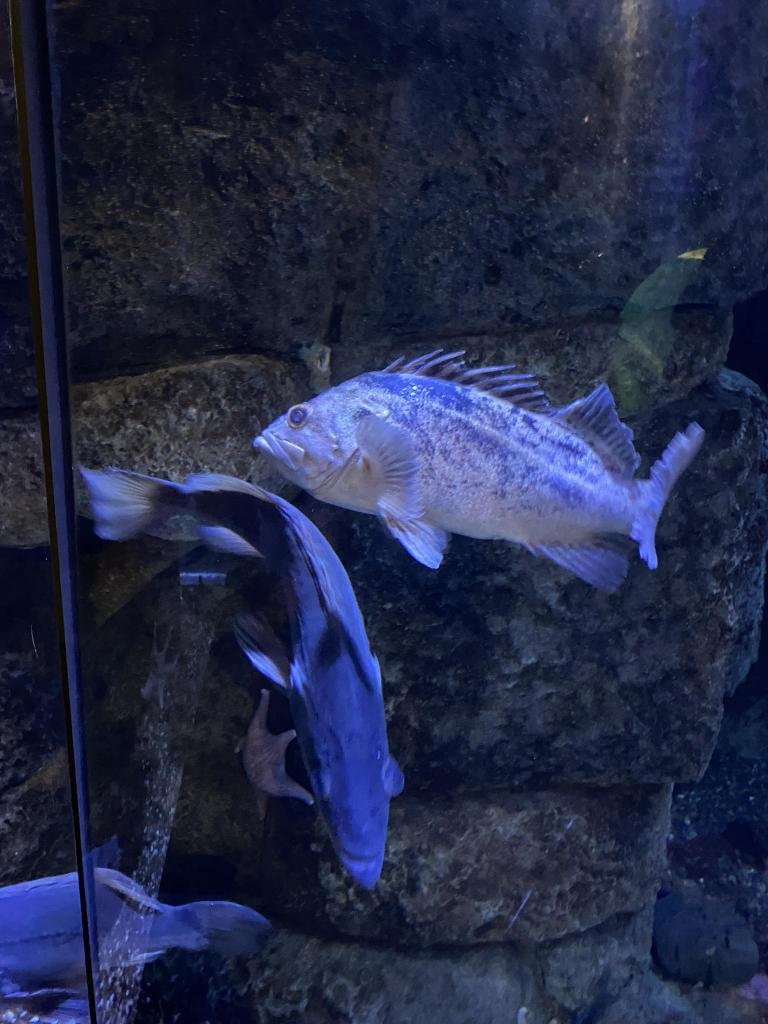fish: (73, 453, 426, 903), (266, 349, 686, 569)
